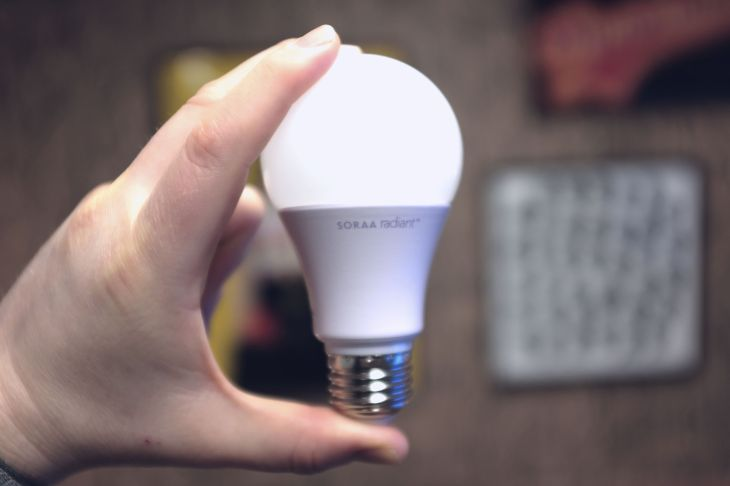Nonrec_Glass: (259, 35, 472, 444)
